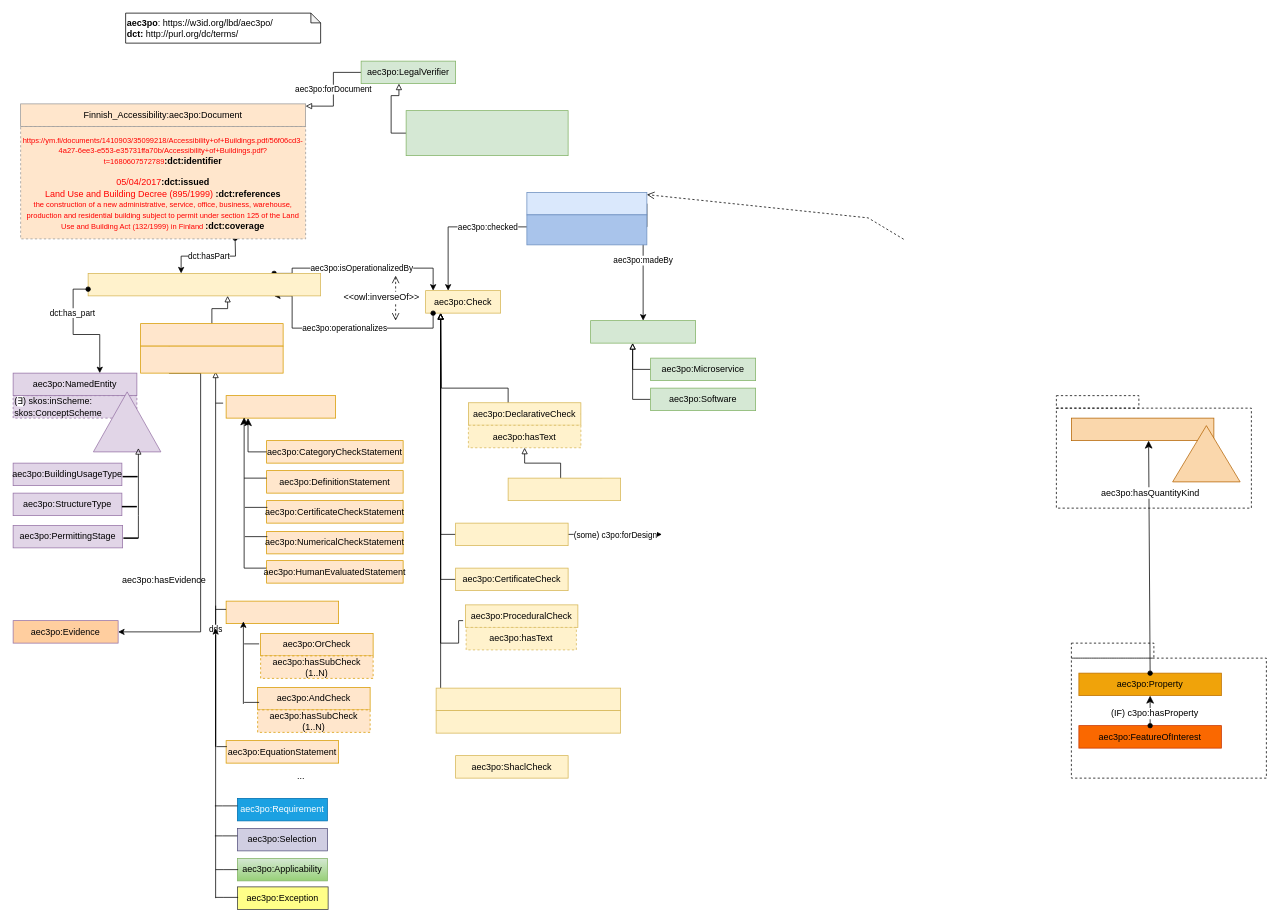
Some shapes in this 1280 by 923 pixel diagram are drawn without their labels. Here are the shapes that lost their labels. From the top down, the centre of each, then its label:
the point at 486,133: Ministry for Housing, Energy and the Environment :aec3po:StateVerifier
the point at 586,203: aec3po:Checking
the point at 586,229: (all) aec3po:hasDataRequirement: aec3po:hasReport:
the point at 204,284: Section_2_subsection2 :aec3po:DocumentSubdivision
the point at 211,334: RampStatement: aec3po:Statement
the point at 643,331: aec3po:ProcessVerifier
the point at 211,359: "The ramp referred to in subsection 1 ... Building Act" :aec3po:Statement:text
the point at 127,421: SKOS hierarchies
the point at 280,406: aec3po:CheckStatement
the point at 1097,401: c3po:quantity_kinds
the point at 1142,429: aec3po:QuantityKind
the point at 1206,453: SKOS hierarchy
the point at 564,489: aec3po:IDSCheck
the point at 511,534: aec3po:CheckForConcept
the point at 282,612: aec3po:ChecklistStatement
the point at 1112,650: c3po:feature_of_interest
the point at 528,699: aec3po:ComponentCheck
the point at 528,721: (all) c3po:forDesign: (all) (inverseOf) c3po:hasDesign: c3po:FeatureOfInterest
